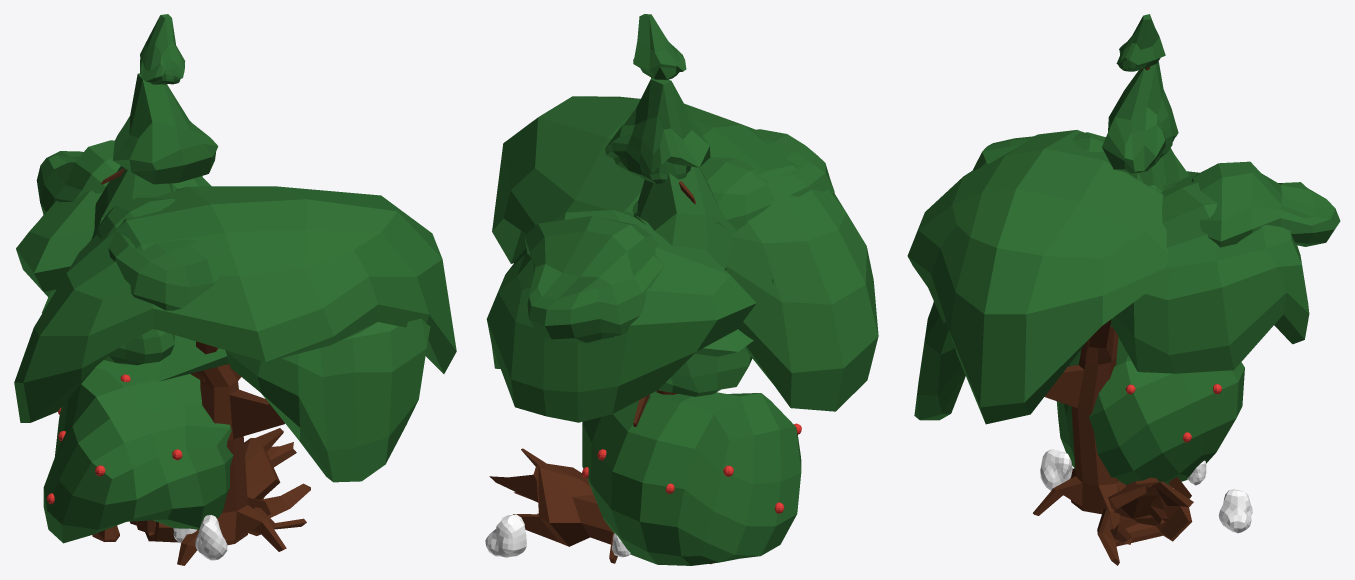
File: nature.glb
3 renders of one model, left to right at view 1: azimuth 30°, elevation 25°; view 2: azimuth 150°, elevation 25°; view 3: azimuth 270°, elevation 25°, orthographic. The views are drawn at different scales.
Parts seen in each view (by area): view 1: tree3, bush, tree1, tree2, trunk, rock4; view 2: tree3, bush, tree2, tree1, trunk, rock2; view 3: tree3, bush, tree2, tree1, trunk, rock2, rock4.
Boxes of the visible parts, x1,y1,x2,y2 form: tree3: (14, 176, 456, 565); bush: (43, 368, 233, 543); tree1: (42, 14, 229, 532); tree2: (36, 140, 231, 525); trunk: (145, 428, 310, 542); rock4: (195, 515, 227, 560); tree3: (486, 96, 878, 563); bush: (582, 391, 801, 565); tree2: (524, 129, 834, 394); tree1: (605, 14, 753, 426); trunk: (489, 448, 612, 546); rock2: (485, 514, 526, 557); tree3: (907, 130, 1309, 529); bush: (1056, 337, 1244, 484); tree2: (973, 132, 1340, 487); tree1: (1102, 14, 1189, 329); trunk: (1097, 477, 1193, 565); rock2: (1218, 489, 1252, 533); rock4: (1040, 449, 1072, 490).
Size of the model in its own units: 3.65 by 4.65 by 3.69.
